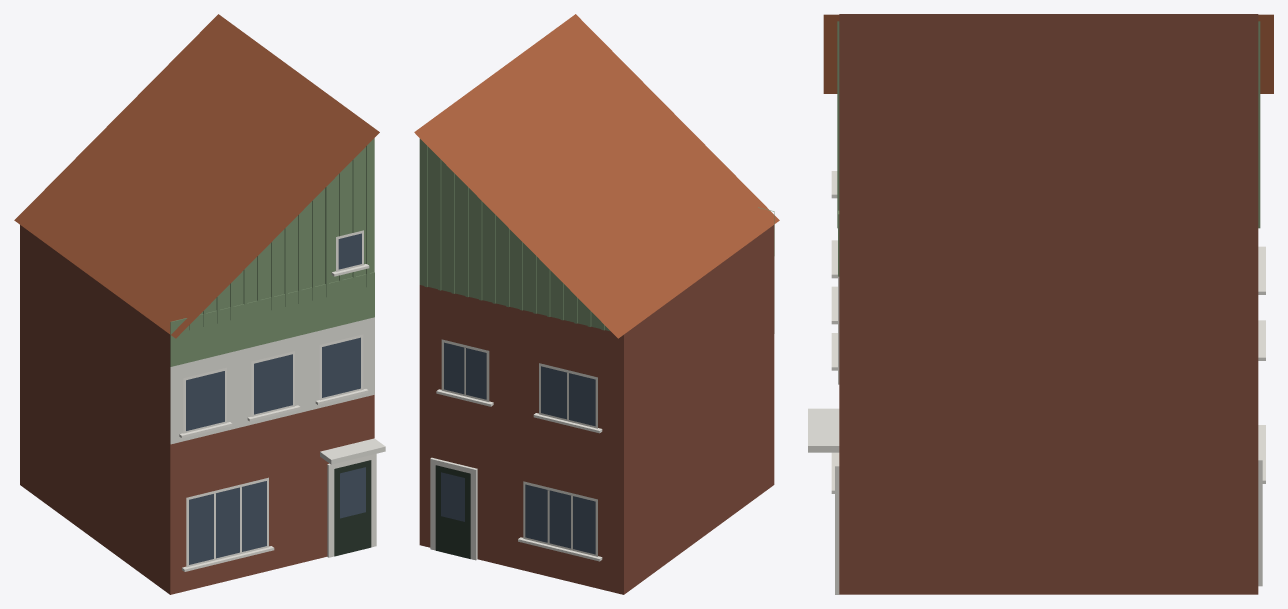
The model's file is nd-bz-green-gable__green__2__gable__short__solid__f1d0.glb.
3 renders of one model, left to right at view 1: azimuth 30°, elevation 25°; view 2: azimuth 150°, elevation 25°; view 3: azimuth 270°, elevation 25°, orthographic. The views are drawn at different scales.
Visible parts, largest first — view 1: nd-bz-green-gable__green__2__gable__short__solid__f1d0; view 2: nd-bz-green-gable__green__2__gable__short__solid__f1d0; view 3: nd-bz-green-gable__green__2__gable__short__solid__f1d0.
Boxes of the visible parts, box(x1,y1,x2,y2) form: nd-bz-green-gable__green__2__gable__short__solid__f1d0: box(14, 14, 385, 594); nd-bz-green-gable__green__2__gable__short__solid__f1d0: box(414, 14, 779, 594); nd-bz-green-gable__green__2__gable__short__solid__f1d0: box(808, 14, 1273, 594).
Size of the model in its own units: 5.26 by 10.23 by 7.44.
